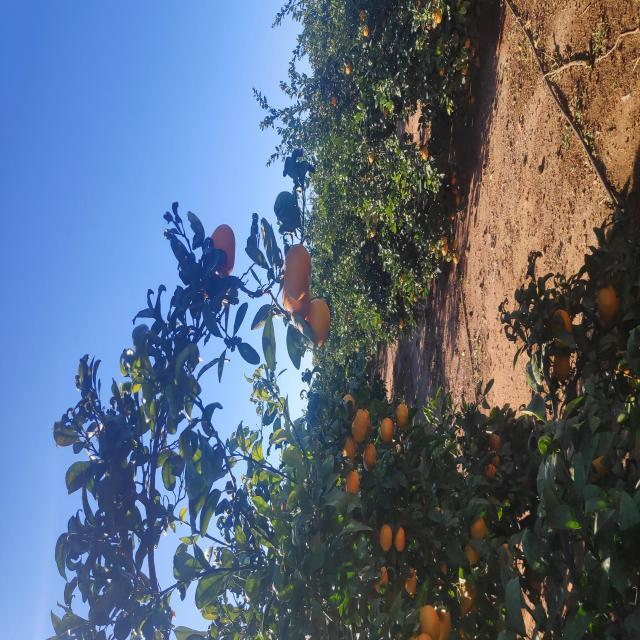Jeruk Sudah Matang: (340, 284, 397, 312), (362, 208, 416, 236), (290, 304, 342, 330), (320, 282, 358, 311), (23, 454, 68, 477), (319, 596, 356, 618), (292, 552, 330, 572), (0, 418, 35, 439), (0, 433, 35, 451), (197, 350, 230, 368), (259, 553, 288, 570), (101, 470, 126, 488), (74, 463, 96, 481), (89, 378, 117, 392), (47, 374, 74, 388), (168, 363, 196, 376), (212, 394, 238, 408), (177, 342, 204, 355), (197, 381, 223, 394), (46, 405, 74, 417), (144, 346, 170, 358), (88, 394, 114, 406), (222, 342, 246, 354), (191, 489, 207, 502), (206, 362, 231, 370), (172, 490, 190, 500), (162, 484, 176, 496), (0, 414, 7, 433), (564, 461, 576, 469), (481, 421, 494, 428), (617, 436, 632, 442), (478, 368, 492, 374), (376, 453, 388, 460), (458, 364, 468, 372), (522, 383, 534, 389), (384, 442, 396, 448), (566, 346, 577, 352), (394, 441, 404, 447), (618, 360, 632, 364), (604, 363, 614, 368), (534, 331, 544, 336), (403, 370, 413, 375), (390, 452, 400, 457), (378, 446, 390, 450), (591, 466, 602, 470), (312, 399, 320, 404), (456, 451, 464, 456), (434, 456, 444, 460), (388, 431, 396, 436), (585, 471, 594, 475), (564, 439, 571, 444), (379, 365, 387, 369), (314, 378, 322, 382), (632, 417, 640, 421), (537, 470, 545, 474), (338, 413, 344, 418), (358, 401, 366, 404), (578, 476, 584, 480), (444, 454, 452, 456), (320, 348, 325, 350)
